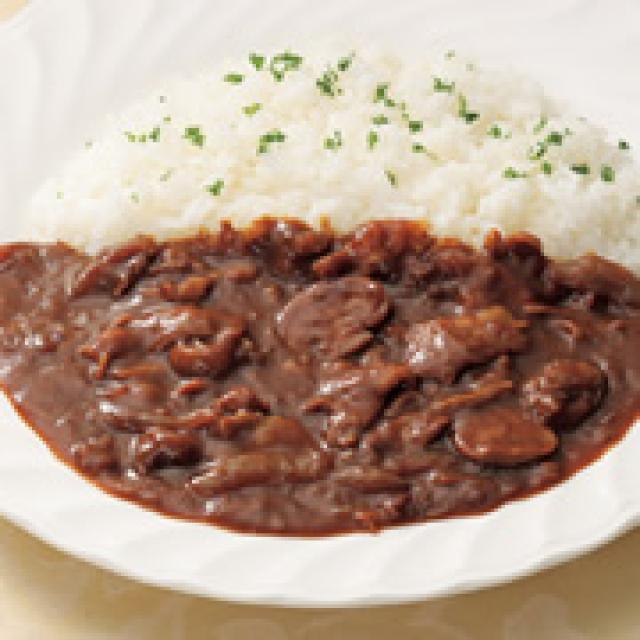牛肉菜式: (0, 0, 640, 601)
